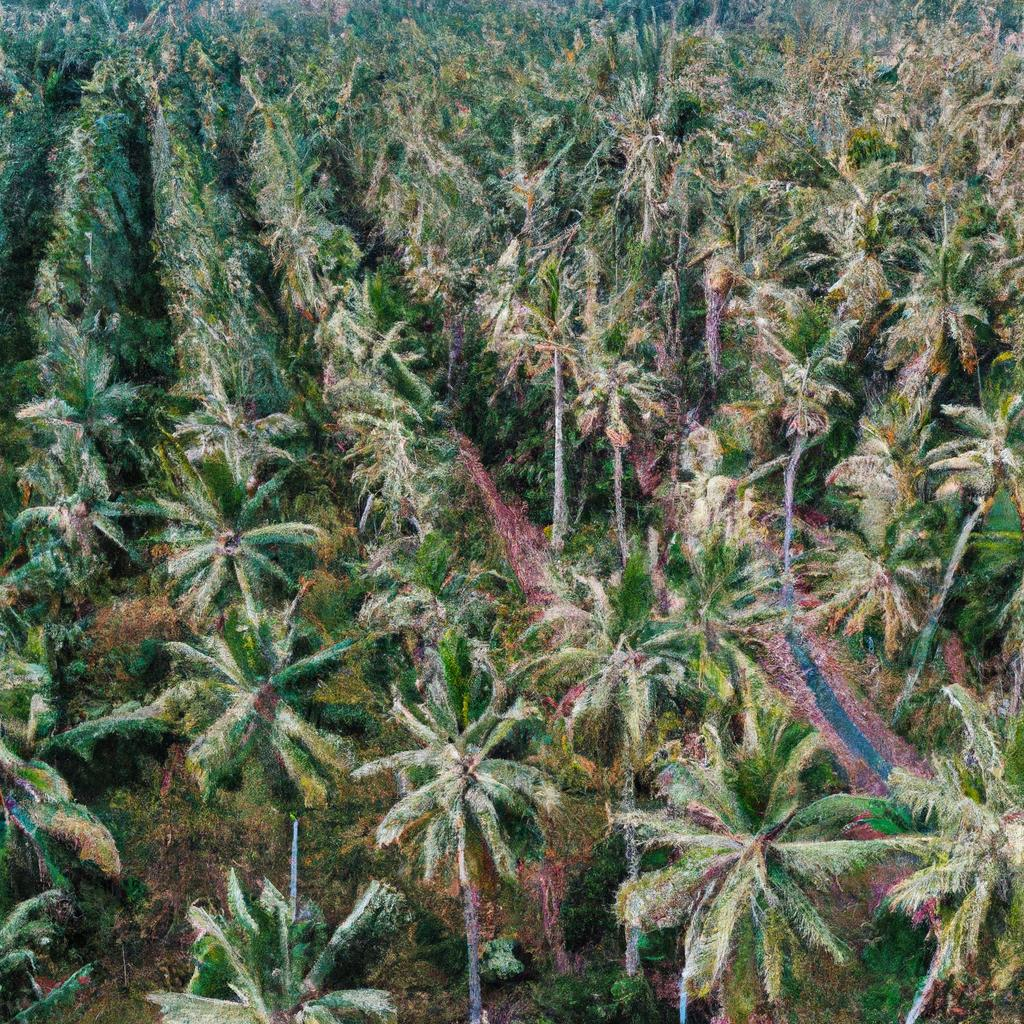coconut_tree: (629, 728, 904, 996), (365, 667, 565, 878), (531, 566, 753, 751), (177, 612, 375, 802), (158, 450, 324, 616)
